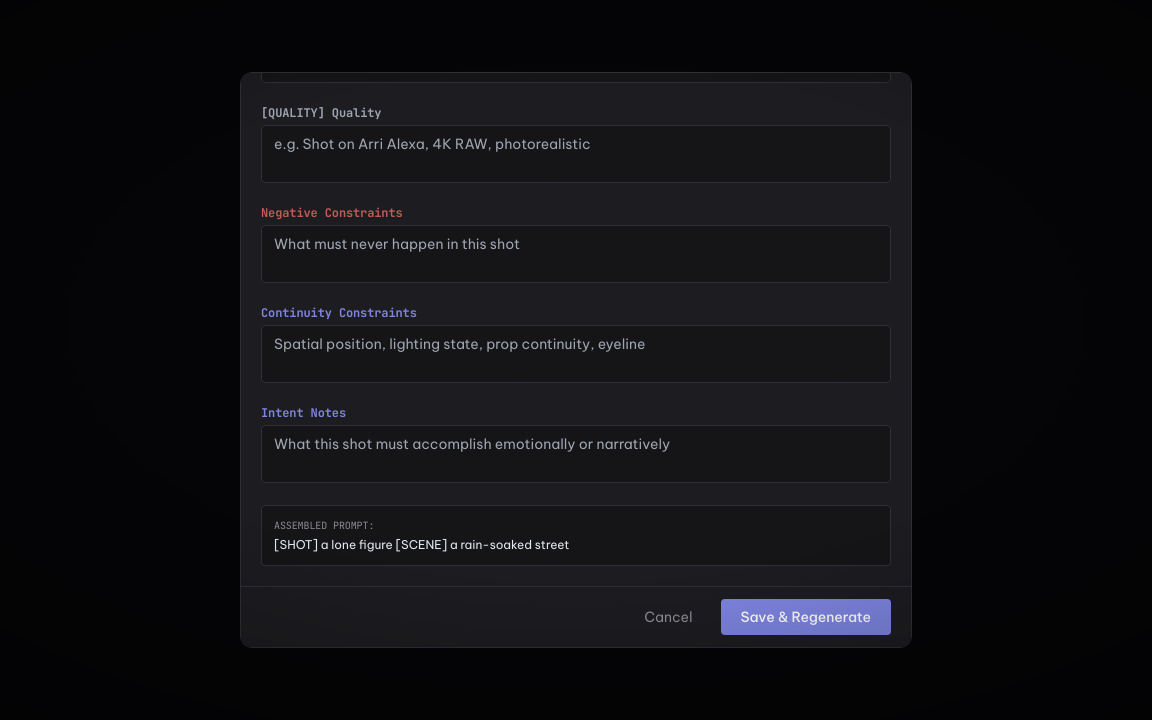
Test case: PromptEditor -- truthful save (Slice 8b requirement 5) › a non-2xx save does NOT close the editor and surfaces the error
The image size is (1152, 720).
(page scrolled)
Click the button "Save & Regenerate".
click(806, 617)  # box [720,599,891,635]
(page scrolled)
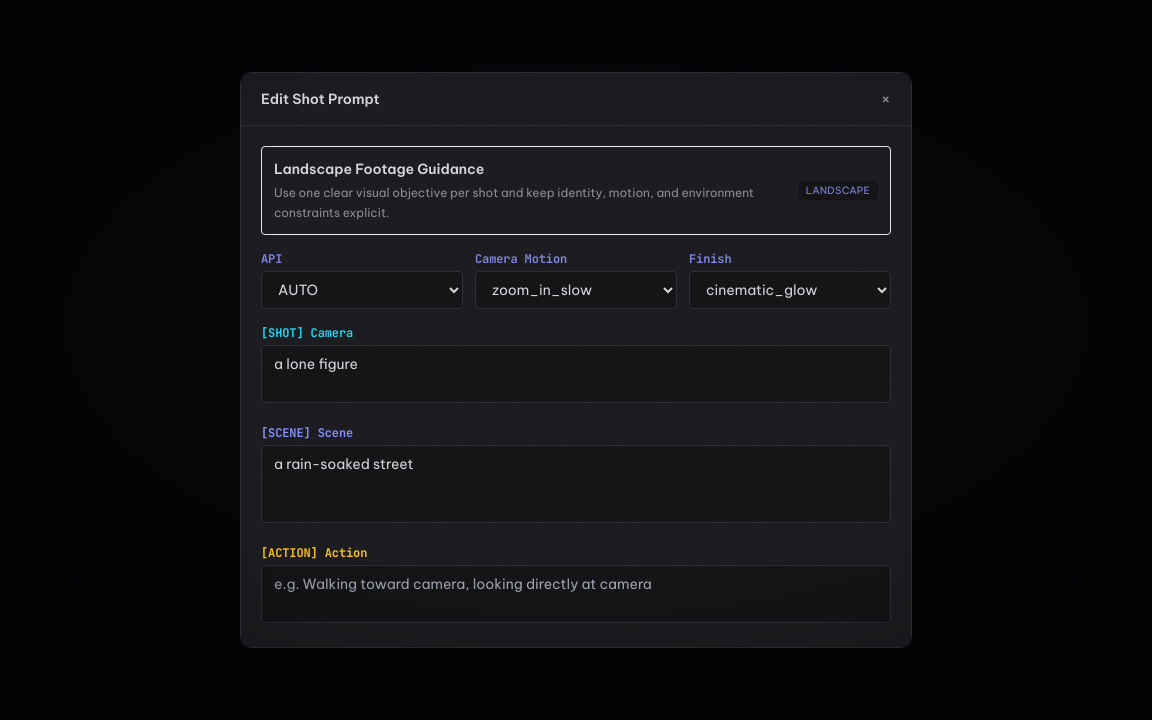
Result: the heading "Edit Shot Prompt" is shown at [261,89,380,109]
